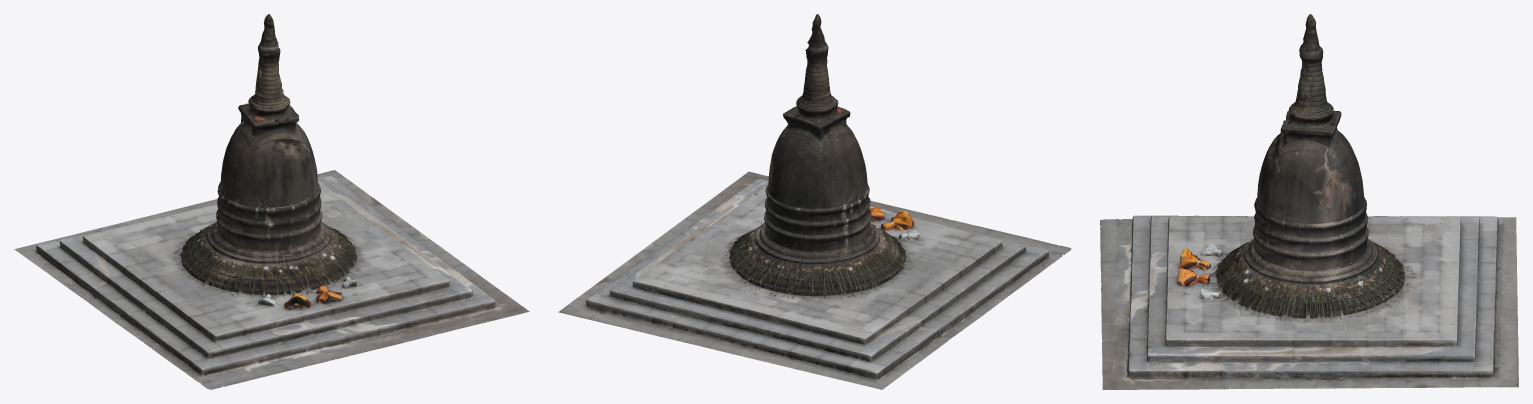
Rendered from taixu-relic-stupa.glb.
3 renders of one model, left to right at view 1: azimuth 30°, elevation 25°; view 2: azimuth 150°, elevation 25°; view 3: azimuth 270°, elevation 25°, orthographic. The views are drawn at different scales.
Parts seen in each view (by area): view 1: taixu-relic-stupa; view 2: taixu-relic-stupa; view 3: taixu-relic-stupa.
Part boxes in pixels (<box>): taixu-relic-stupa: <box>14,14,529,389</box>; taixu-relic-stupa: <box>558,14,1071,389</box>; taixu-relic-stupa: <box>1100,14,1518,389</box>.
Size of the model in its own units: 11.67 by 9.26 by 12.08.
1 material, 1 textured.
